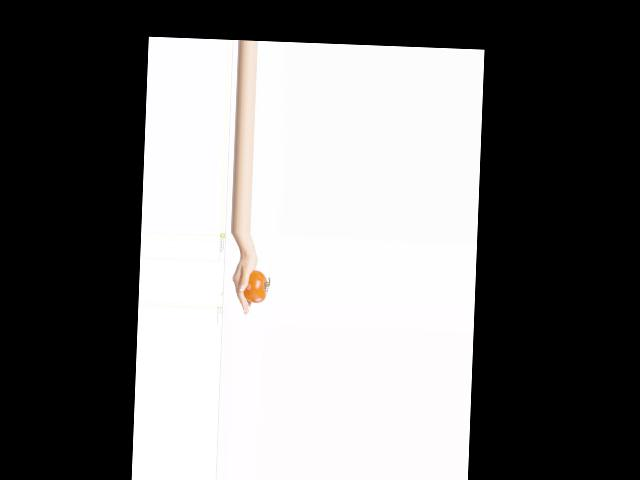tomato: (243, 270, 266, 303)
